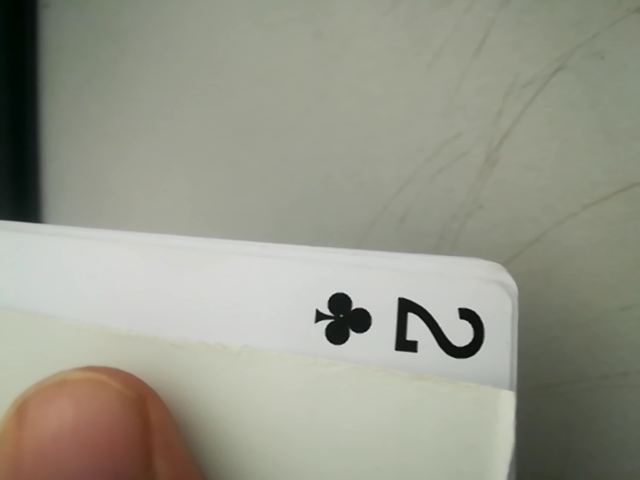mh 2: (286, 269, 509, 386)
